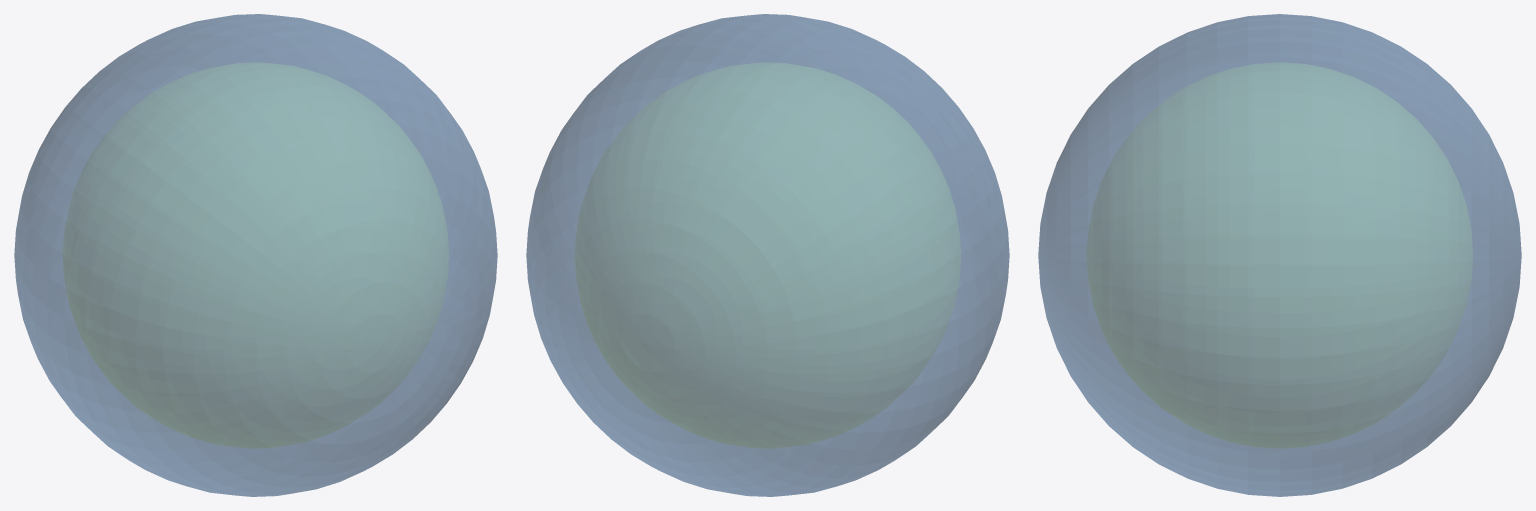
Rendered from zero_layers_3d.obj.
The picture shows the model from 3 angles, left to right: view 1: azimuth 30°, elevation 25°; view 2: azimuth 150°, elevation 25°; view 3: azimuth 270°, elevation 25°; orthographic projection.
Visible parts, largest first — view 1: Mesh1 L0 Model, Mesh2 L1_ Model; view 2: Mesh1 L0 Model, Mesh2 L1_ Model; view 3: Mesh1 L0 Model, Mesh2 L1_ Model.
Part boxes in pixels (left/top/right/bottom): Mesh1 L0 Model: left=14, top=14, right=497, bottom=496; Mesh2 L1_ Model: left=63, top=62, right=448, bottom=448; Mesh1 L0 Model: left=526, top=14, right=1009, bottom=496; Mesh2 L1_ Model: left=575, top=62, right=960, bottom=448; Mesh1 L0 Model: left=1038, top=14, right=1521, bottom=496; Mesh2 L1_ Model: left=1087, top=62, right=1472, bottom=448.
Size of the model in its own units: 254 by 254 by 254.
